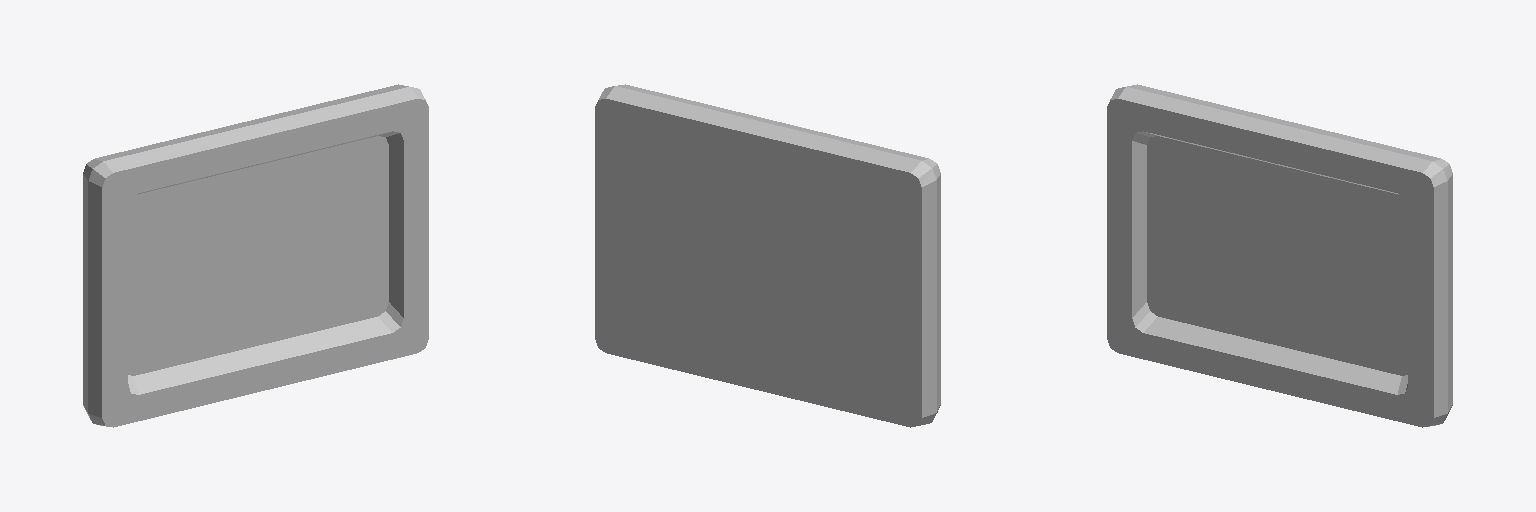
The model's file is sign_wall.obj.
3 views of the same model, side by side, from view 1: azimuth 30°, elevation 25°; view 2: azimuth 150°, elevation 25°; view 3: azimuth 330°, elevation 25° (orthographic).
Visible parts, largest first — view 1: sign_wall; view 2: sign_wall; view 3: sign_wall.
Part boxes in pixels (left/top/right/bottom): sign_wall: left=83, top=84, right=428, bottom=427; sign_wall: left=595, top=84, right=940, bottom=427; sign_wall: left=1107, top=84, right=1452, bottom=427.
Bounding box in the file's own units: 2 × 1.5 × 0.2.